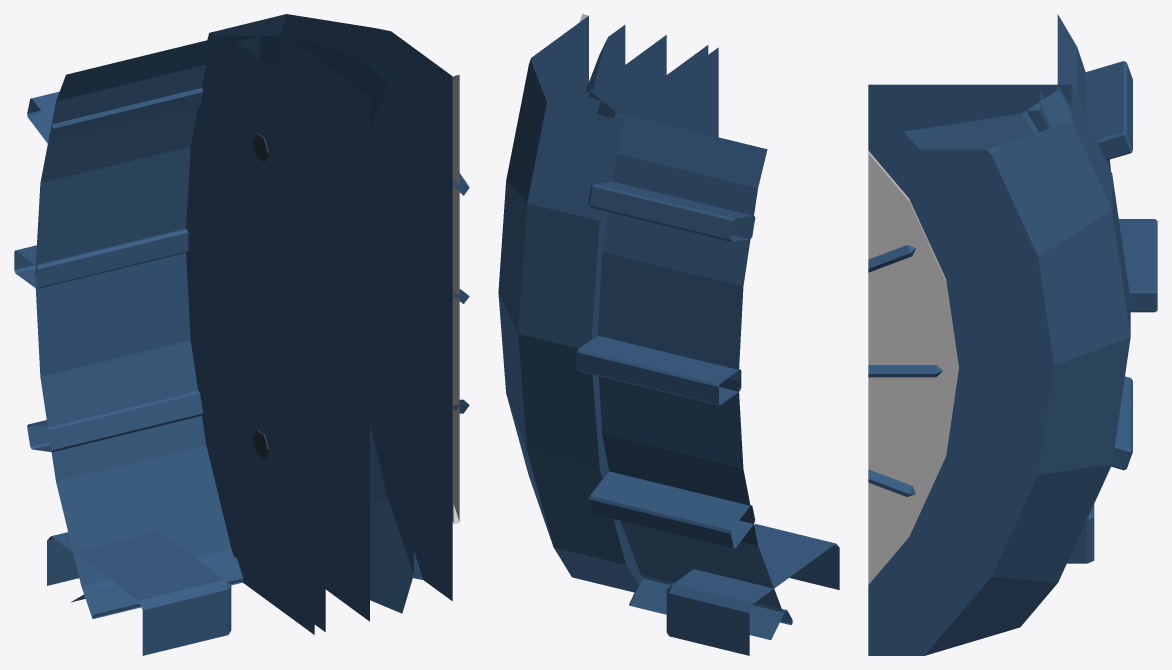
The model's file is cell_34.obj.
3 renders of one model, left to right at view 1: azimuth 30°, elevation 25°; view 2: azimuth 150°, elevation 25°; view 3: azimuth 270°, elevation 25°, orthographic. The views are drawn at different scales.
Bounding box in the file's own units: 0.6086 × 1 × 0.5181.
